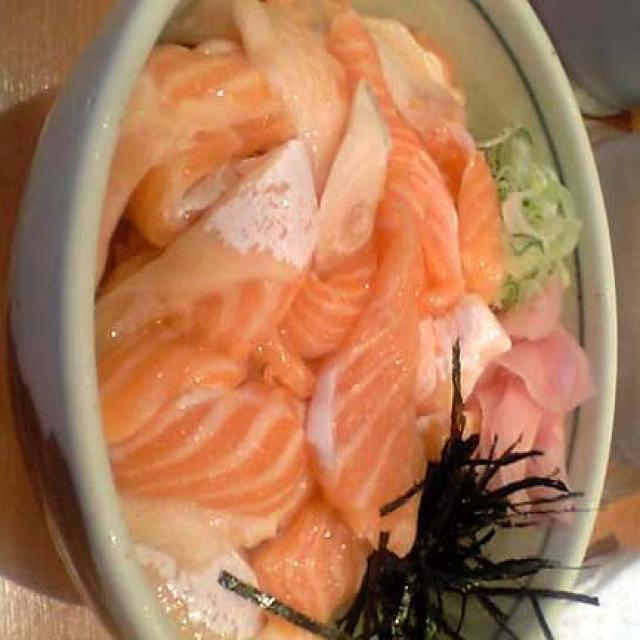刺身生食: (0, 25, 562, 640)
